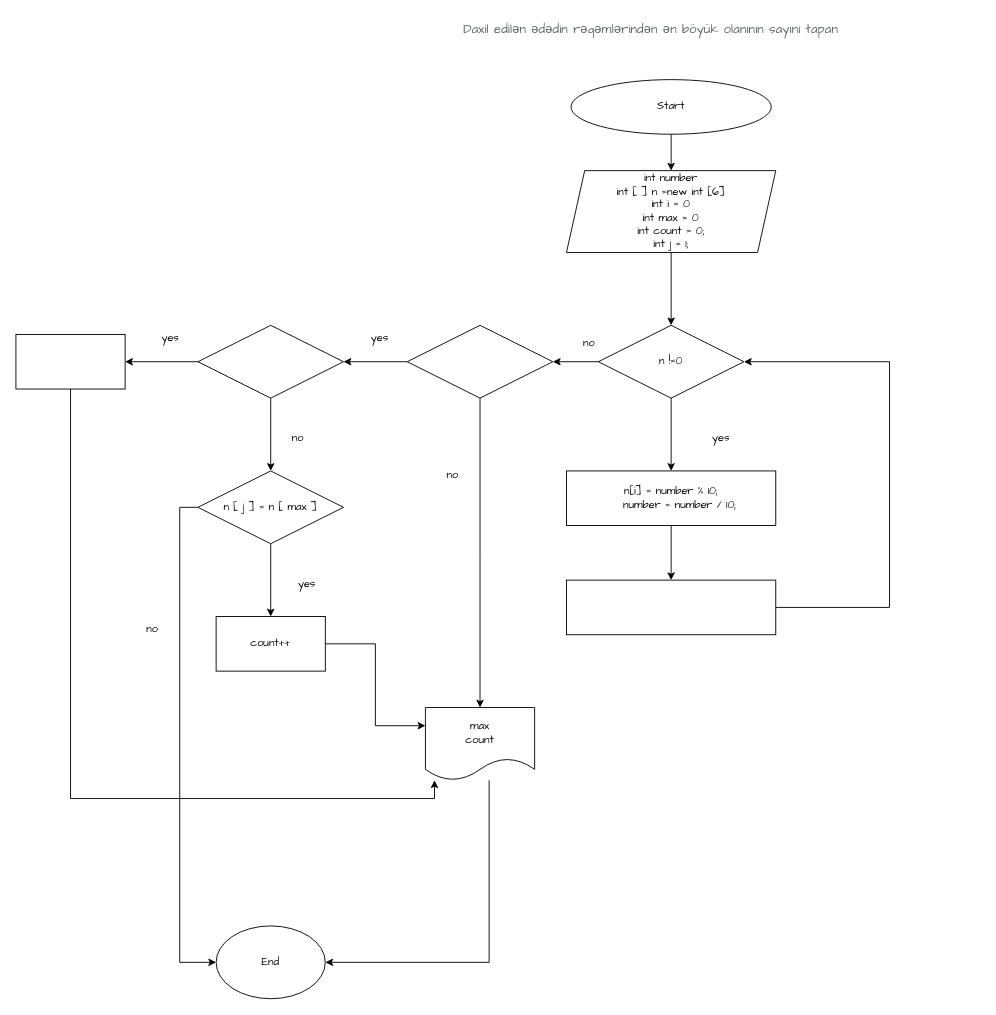
Some shapes in this 996 by 1015 pixel diagram are drawn without their labels. Here are the shapes that lost their labels. From the top down, the box of each, then its label:
(15, 334, 125, 389): n[max] = n[j];
(197, 324, 344, 398): n [ j] > n[ max]
(406, 324, 553, 398): j< n.Length
(566, 579, 776, 635): i ++
